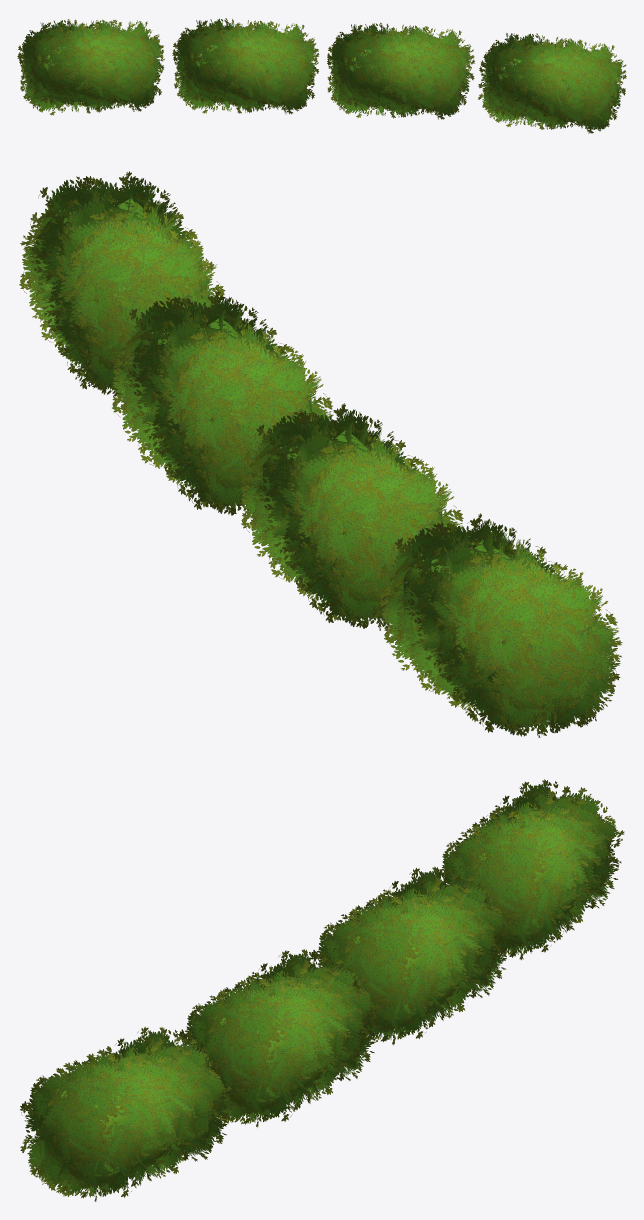
The model's file is SM_Bush06_Splines_16.fbx.
3 renders of one model, top to bottom at view 1: azimuth 30°, elevation 25°; view 2: azimuth 150°, elevation 25°; view 3: azimuth 270°, elevation 25°, orthographic. The views are drawn at different scales.
Parts seen in each view (by area): view 1: SM_Bush06_Splines_16_LOD0; view 2: SM_Bush06_Splines_16_LOD0; view 3: SM_Bush06_Splines_16_LOD0.
Boxes of the visible parts, left/top/right/bottom form: SM_Bush06_Splines_16_LOD0: left=17, top=18, right=626, bottom=133; SM_Bush06_Splines_16_LOD0: left=19, top=171, right=622, bottom=737; SM_Bush06_Splines_16_LOD0: left=20, top=779, right=624, bottom=1201.
Bounding box in the file's own units: 905 × 687 × 166.
